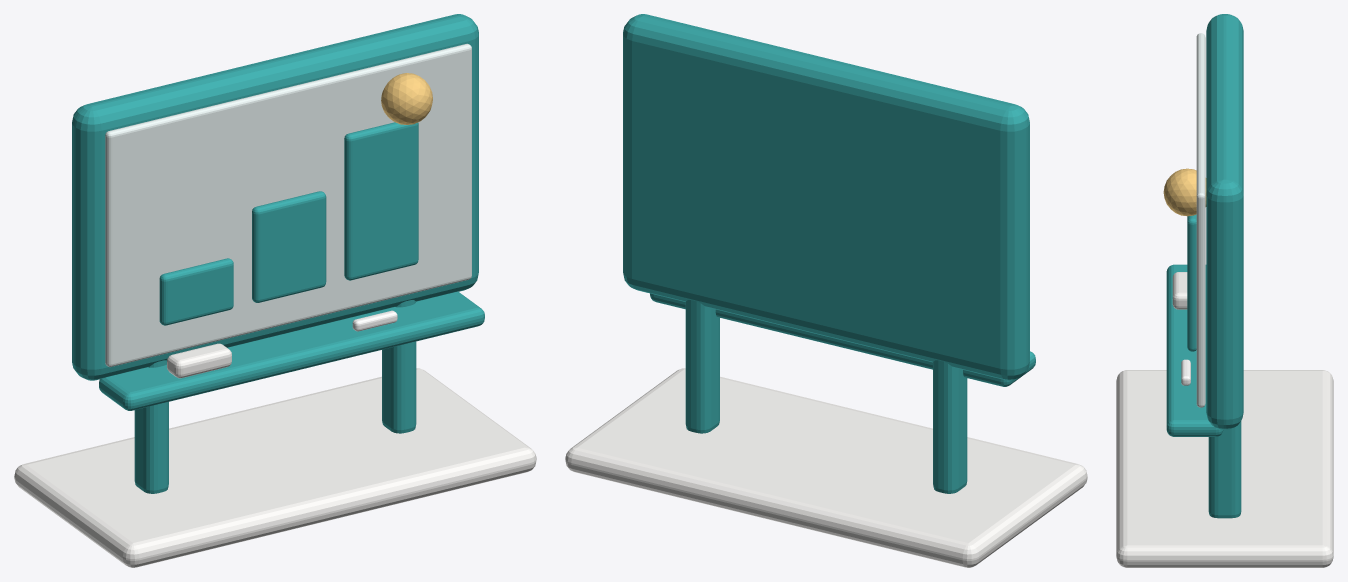
The model's file is learning-board.glb.
3 views of the same model, side by side, from view 1: azimuth 30°, elevation 25°; view 2: azimuth 150°, elevation 25°; view 3: azimuth 270°, elevation 25° (orthographic). The views are drawn at different scales.
Visible parts, largest first — view 1: screen, stand_base, frame, tray, learning_step_2, learning_step_1, learning_step_0, leg_1, leg_0, moment_of_understanding, eraser; view 2: frame, stand_base, leg_1, leg_0, tray; view 3: stand_base, frame, tray, screen, leg_1, moment_of_understanding, learning_step_2, eraser.
Boxes of the visible parts, bbox=[...] form: screen: bbox=[105, 43, 471, 366]; stand_base: bbox=[14, 368, 536, 567]; frame: bbox=[72, 14, 478, 380]; tray: bbox=[99, 291, 484, 410]; learning_step_2: bbox=[344, 122, 418, 280]; learning_step_1: bbox=[252, 191, 326, 302]; learning_step_0: bbox=[159, 258, 233, 325]; leg_1: bbox=[382, 300, 416, 433]; leg_0: bbox=[134, 360, 168, 493]; moment_of_understanding: bbox=[381, 73, 432, 124]; eraser: bbox=[167, 343, 231, 378]; frame: bbox=[623, 14, 1029, 380]; stand_base: bbox=[565, 368, 1087, 567]; leg_1: bbox=[685, 300, 719, 433]; leg_0: bbox=[933, 360, 967, 493]; tray: bbox=[650, 293, 1035, 386]; stand_base: bbox=[1116, 370, 1333, 567]; frame: bbox=[1206, 14, 1243, 429]; tray: bbox=[1166, 264, 1223, 436]; screen: bbox=[1196, 33, 1205, 407]; leg_1: bbox=[1208, 421, 1241, 518]; moment_of_understanding: bbox=[1163, 168, 1206, 216]; learning_step_2: bbox=[1187, 214, 1196, 351]; eraser: bbox=[1172, 272, 1187, 309].
Size of the model in its own units: 2.9 by 2.82 by 1.45.
